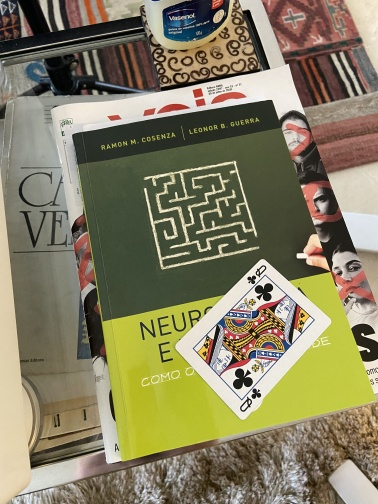queen: (173, 258, 333, 423)
